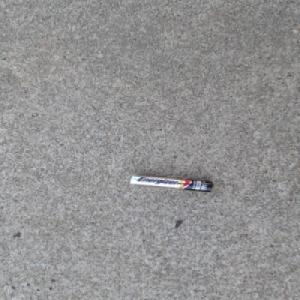Battery: (127, 174, 215, 193)
